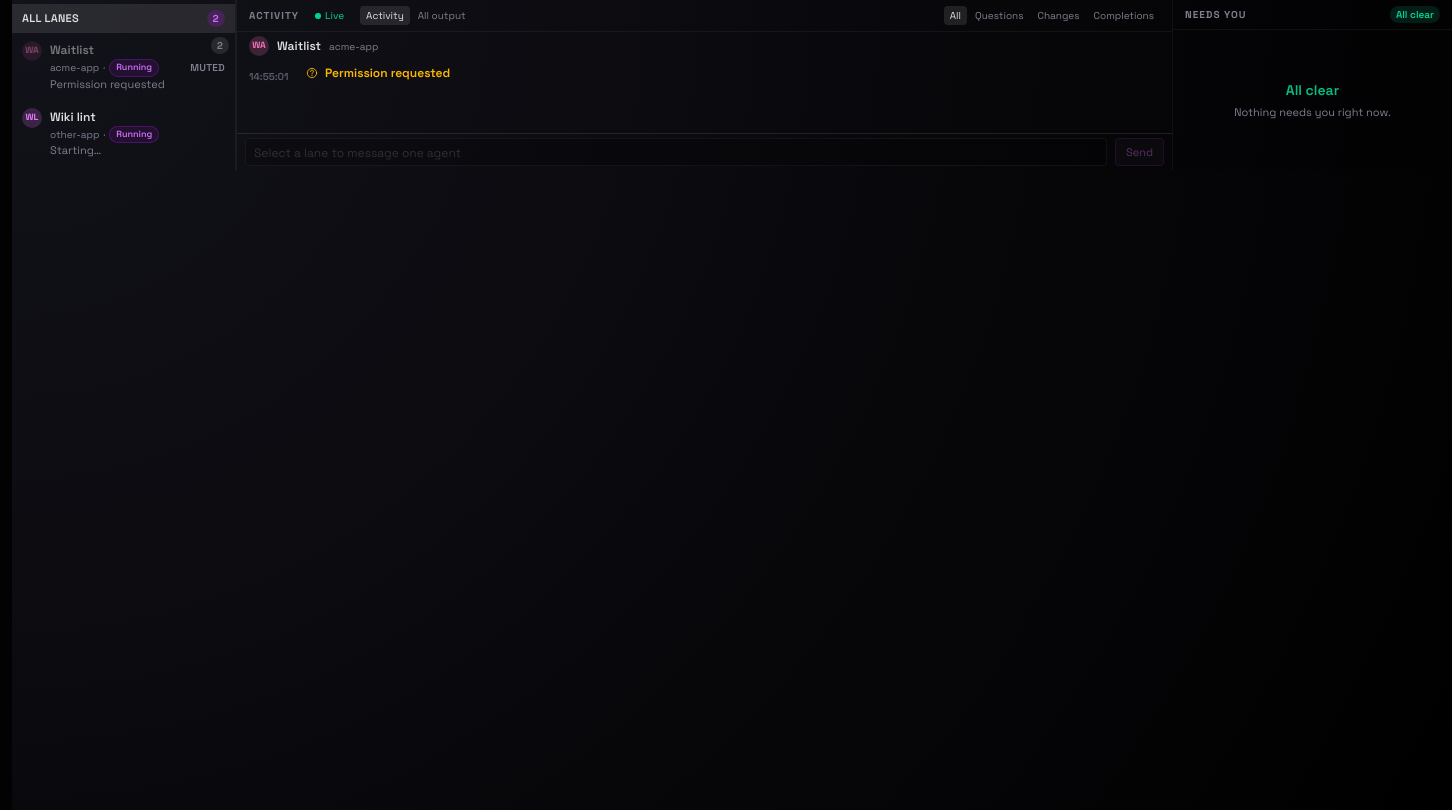
ActivityFeed mute › shows every row once the muted lane itself is selected
The width and height of the screenshot is (1452, 810).
Step 1. Click the button "WA Waitlist acme-app · Running Permission requested" → (98, 66), box [18,37,178,96]
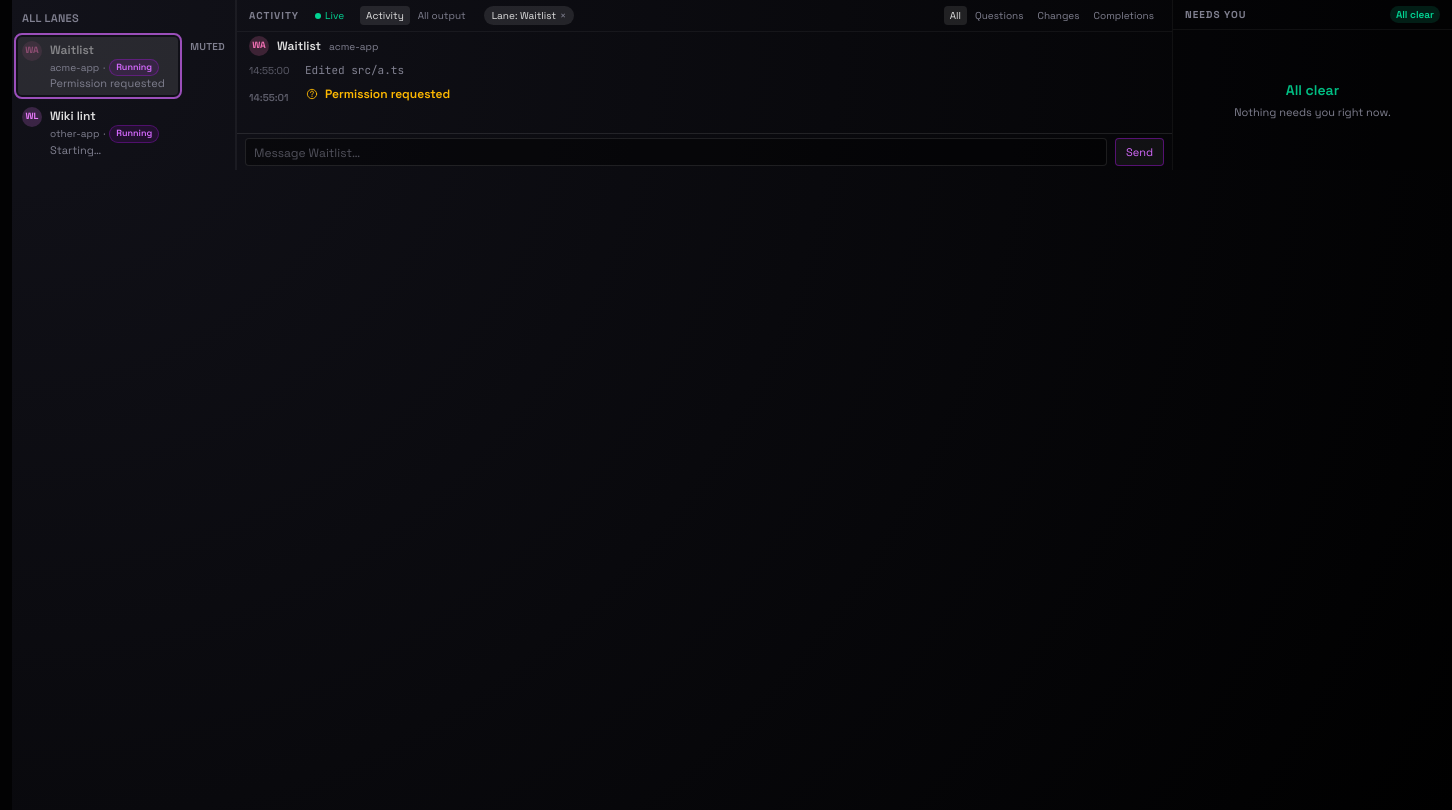
Expected: the text "Edited src/a.ts" is shown, [305,62,404,78]
